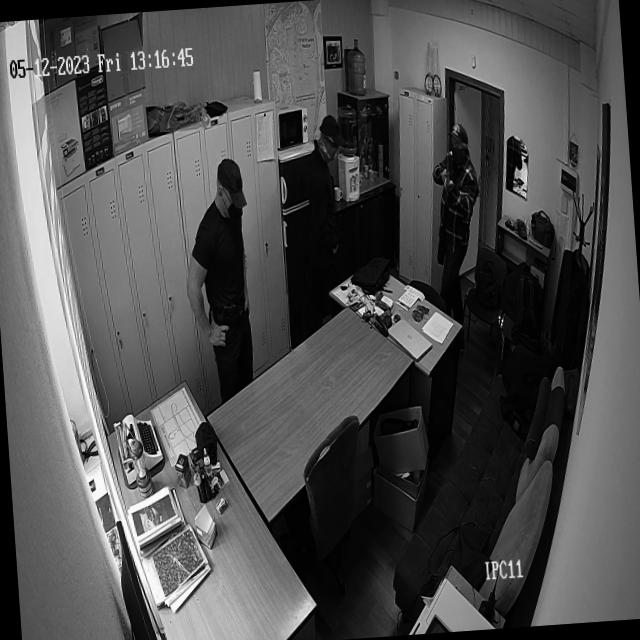gun: (440, 150, 454, 226)
person: (176, 154, 258, 378), (428, 119, 487, 309), (301, 112, 352, 274)
person with a gun: (427, 120, 487, 308)
